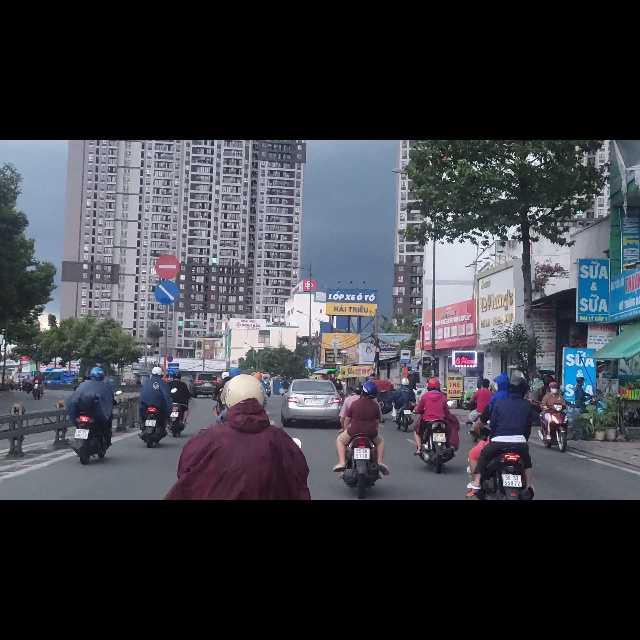bien_cam: (154, 249, 180, 293), (156, 205, 180, 247), (400, 372, 410, 398), (304, 386, 315, 405)
